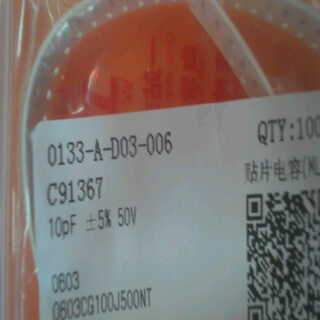10pF: (41, 208, 82, 240)
